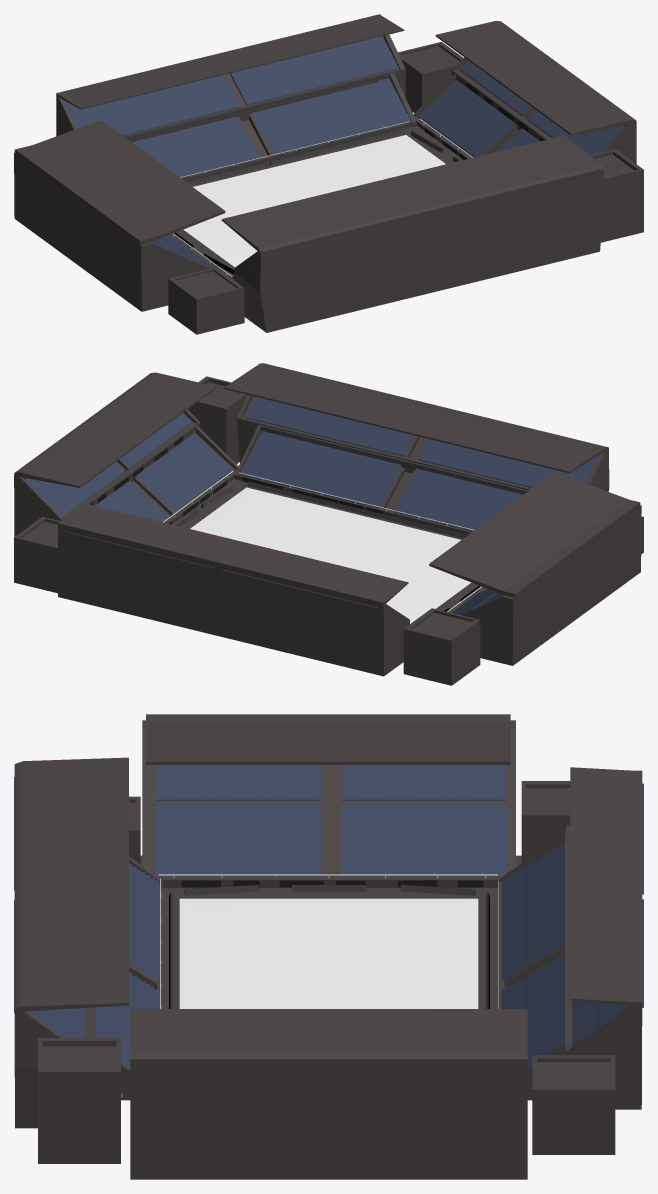
Rendered from stadium.glb.
The picture shows the model from 3 angles, top to bottom: view 1: azimuth 30°, elevation 25°; view 2: azimuth 150°, elevation 25°; view 3: azimuth 270°, elevation 25°; orthographic projection. The views are drawn at different scales.
Parts seen in each view (by area): view 1: StandBase_ncl1_2, StandBase1, StandBase1_ncl1_2, Pitch1, StandBase, Stand3_ncl1_2, Stand2, Stand1, Stand4_ncl1_2, Cornerbuilding3, Stand6, Cornerbuilding1 (+8 smaller); view 2: StandBase, StandBase1, StandBase_ncl1_2, Pitch1, StandBase1_ncl1_2, Stand4, Cornerbuilding, Stand3, Stand4_ncl1_1, Stand5, Stand3_ncl1_1, EndStand2_Stand6 (+9 smaller); view 3: StandBase1_ncl1_2, Pitch1, StandBase_ncl1_2, StandBase1, StandBase, Stand8, Stand7, Cornerbuilding1, Cornerbuilding2, Stand4_ncl1_2, Surround, Stand10 (+13 smaller).
Boxes of the visible parts, x1,y1,x2,y2 form: StandBase_ncl1_2: [221, 135, 603, 332]; StandBase1: [14, 120, 234, 311]; StandBase1_ncl1_2: [435, 21, 636, 163]; Pitch1: [183, 135, 445, 267]; StandBase: [56, 14, 405, 137]; Stand3_ncl1_2: [252, 78, 411, 155]; Stand2: [231, 36, 398, 105]; Stand1: [64, 75, 240, 135]; Stand4_ncl1_2: [132, 116, 258, 177]; Cornerbuilding3: [168, 267, 244, 334]; Stand6: [418, 80, 515, 157]; Cornerbuilding1: [590, 149, 643, 242]; StandBase: [58, 503, 409, 676]; StandBase1: [429, 472, 641, 665]; StandBase_ncl1_2: [224, 363, 609, 491]; Pitch1: [190, 487, 471, 623]; StandBase1_ncl1_2: [14, 372, 216, 536]; Stand4: [240, 431, 401, 508]; Cornerbuilding: [403, 608, 480, 685]; Stand3: [394, 468, 522, 531]; Stand4_ncl1_1: [245, 397, 415, 456]; Stand5: [136, 433, 232, 512]; Stand3_ncl1_1: [418, 439, 598, 487]; EndStand2_Stand6: [25, 413, 192, 517]; StandBase1_ncl1_2: [130, 1009, 527, 1179]; Pitch1: [179, 898, 478, 1008]; StandBase_ncl1_2: [14, 757, 128, 1128]; StandBase1: [142, 714, 515, 887]; StandBase: [566, 767, 642, 1109]; Stand8: [155, 805, 321, 876]; Stand7: [341, 805, 506, 876]; Cornerbuilding1: [38, 1038, 120, 1163]; Cornerbuilding2: [532, 1055, 615, 1154]; Stand4_ncl1_2: [501, 842, 564, 979]; Surround: [140, 855, 521, 1008]; Stand10: [156, 765, 321, 800].
Size of the model in its own units: 5.58 by 0.9616 by 4.22.
